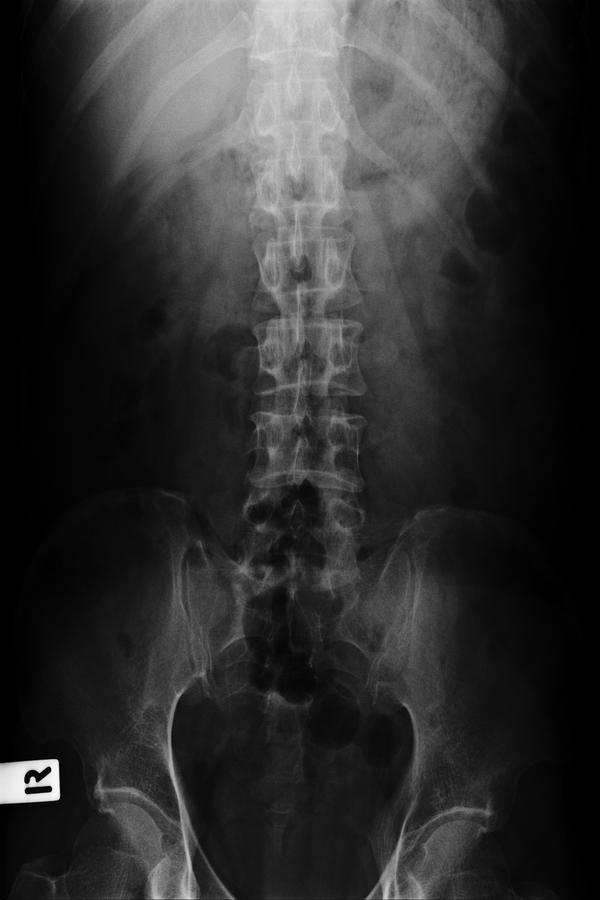lumbar scoliosis: (239, 12, 370, 588)
